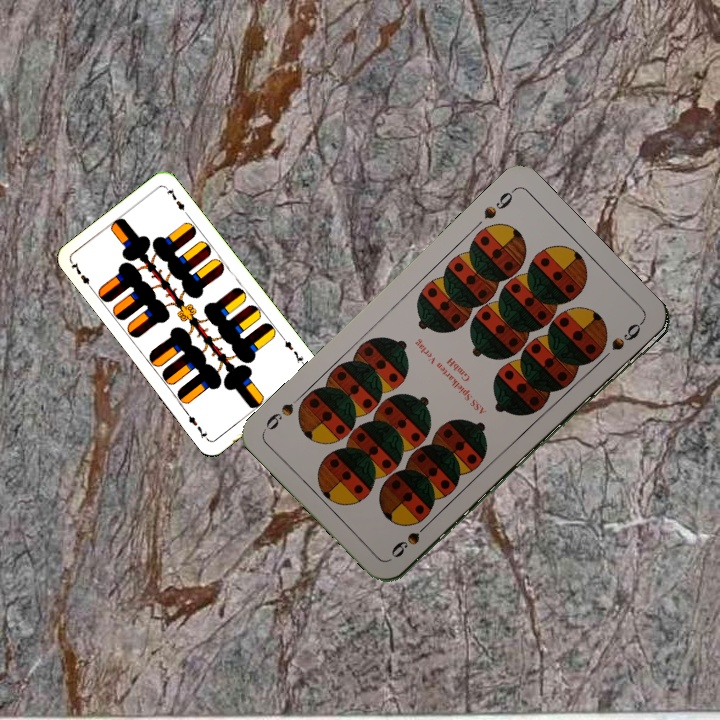E7: (278, 333, 307, 368), (67, 258, 96, 293)
S9: (387, 516, 434, 561), (479, 185, 518, 222)
